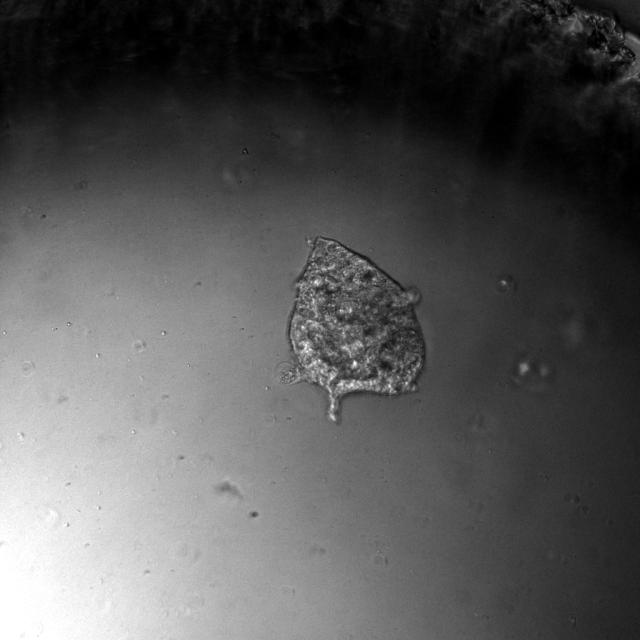organoid: (278, 237, 426, 421)
